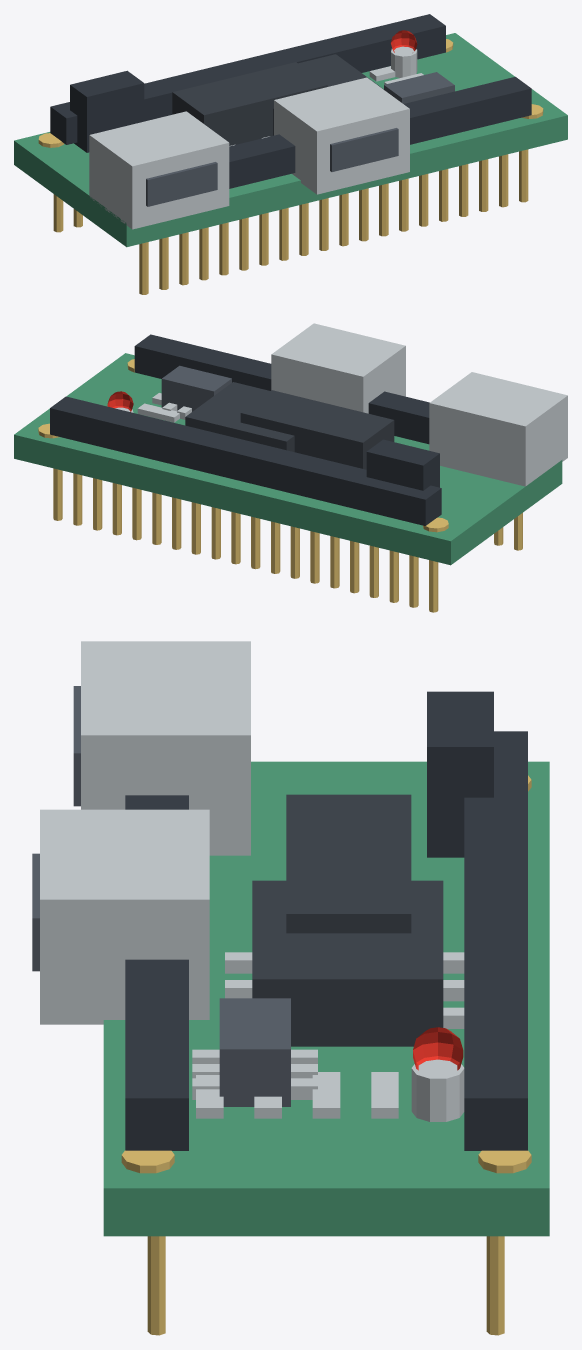
Rendered from product-3.glb.
3 renders of one model, top to bottom at view 1: azimuth 30°, elevation 25°; view 2: azimuth 150°, elevation 25°; view 3: azimuth 270°, elevation 25°, orthographic. The views are drawn at different scales.
Visible parts, largest first — view 1: product-3; view 2: product-3; view 3: product-3.
Boxes of the visible parts, x1,y1,x2,y2 form: product-3: [14, 14, 567, 294]; product-3: [14, 323, 567, 612]; product-3: [32, 641, 549, 1335].
Bounding box in the file's own units: 0.95 × 0.305 × 0.487.
